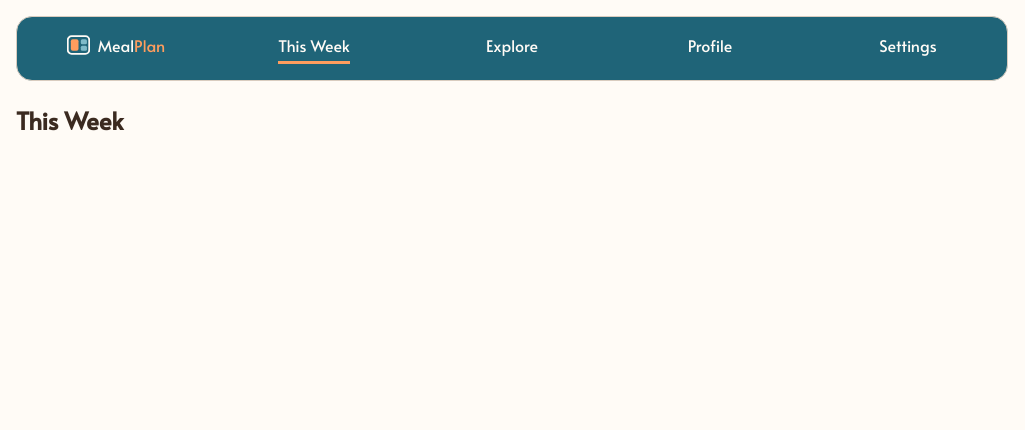
Scenario: a failed Sign Out says so and keeps the user signed in
expect the element showing "MealPlan This Week Explore Profile Settings" is shown: met, box 16,16 -> 1008,81
Click the tab "Settings" at (908, 48), box 809,17 -> 1007,80
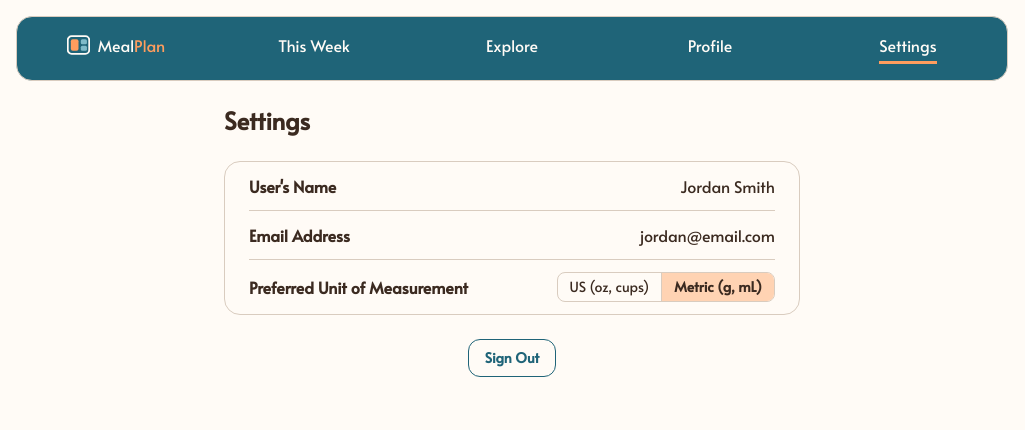
Click the button "Sign Out" at (512, 358), box 468,339 -> 556,377
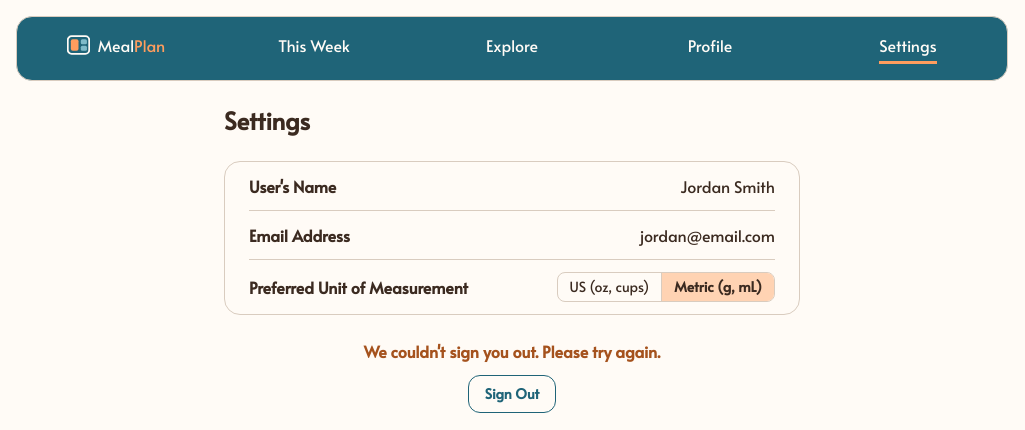
expect the number of tabs is 5: met, box 17,17 -> 215,80; 215,17 -> 413,80; 413,17 -> 611,80; 611,17 -> 809,80; 809,17 -> 1007,80
expect the message shows "We couldn't sign you out": met, box 364,340 -> 660,362
